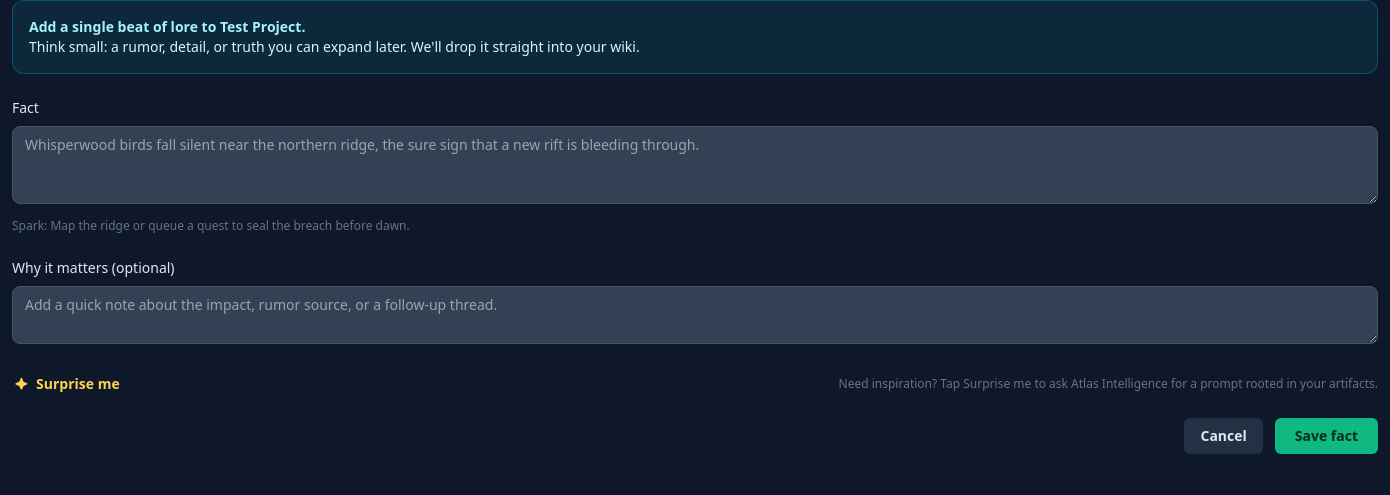
Test: QuickFactForm Accessibility › displays accessible validation error when submitting empty fact
Click the button "Save fact" at {"x": 1326, "y": 436}, box [1275,418,1378,454]
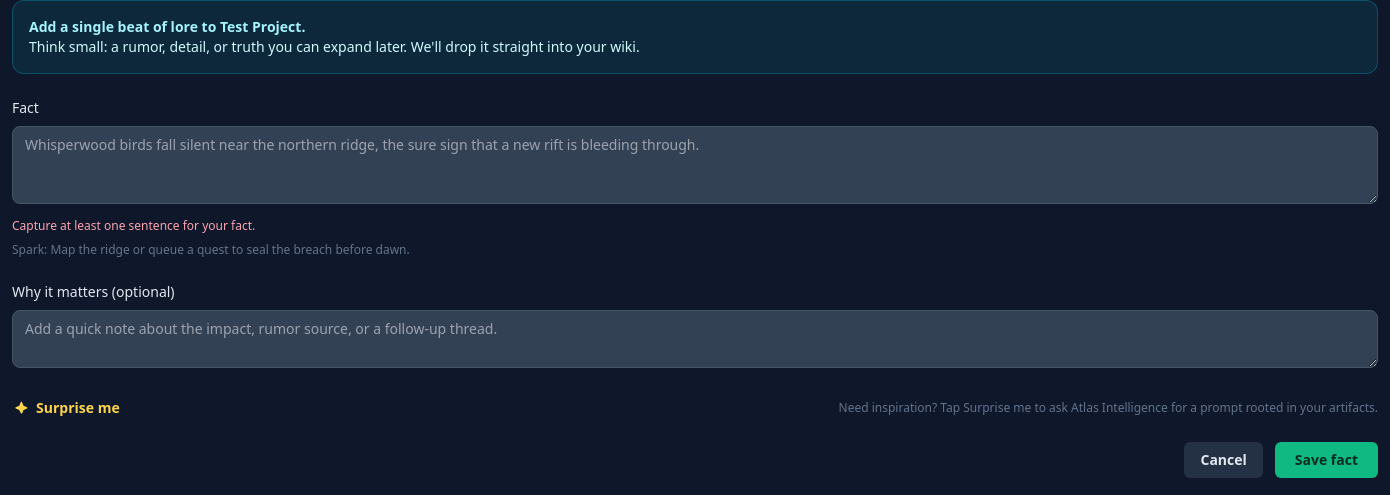
Result: the message shows "Capture at least one sentence" at [12,217,255,234]
